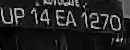0: (110, 14, 122, 36)
1: (30, 8, 39, 27), (80, 11, 89, 29)
2: (89, 11, 103, 34)
4: (39, 9, 54, 28)
7: (100, 12, 110, 33)
A: (65, 10, 79, 32)
E: (54, 8, 67, 30)
P: (14, 7, 28, 31)
U: (1, 7, 14, 27)
